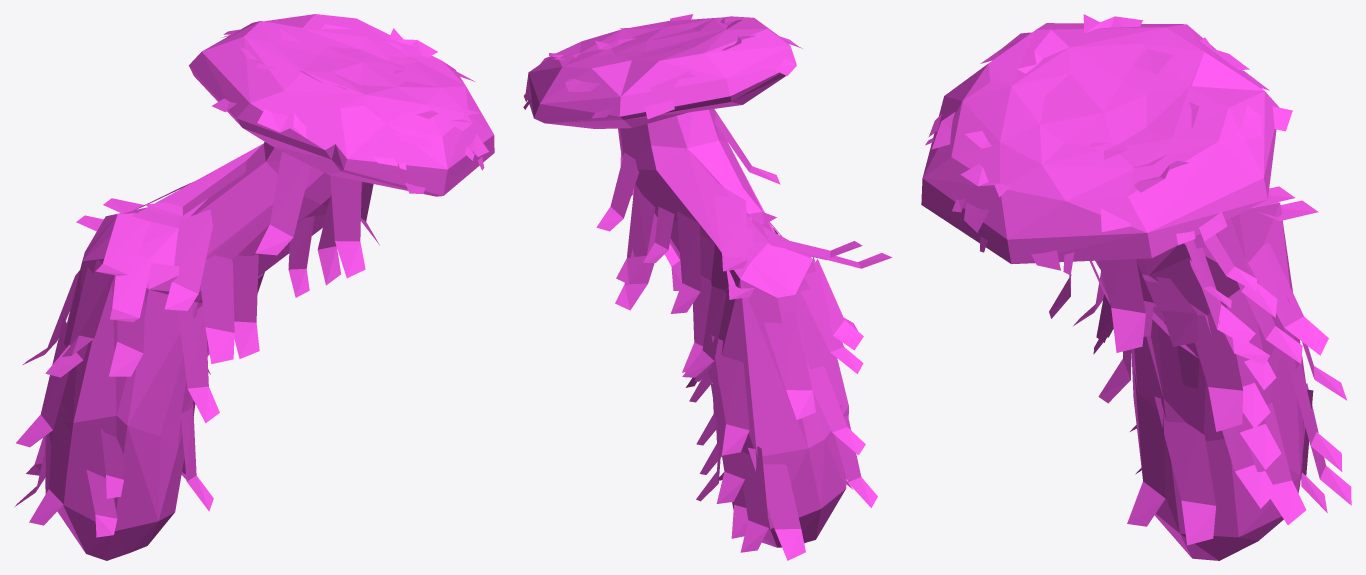
File: SM_Mushroom_Fluffy_Giant_D_Fantasy.fbx
3 renders of one model, left to right at view 1: azimuth 30°, elevation 25°; view 2: azimuth 150°, elevation 25°; view 3: azimuth 270°, elevation 25°, orthographic. The views are drawn at different scales.
Visible parts, largest first — view 1: SM_Mushroom_Fluffy_Giant_D_Fantasy; view 2: SM_Mushroom_Fluffy_Giant_D_Fantasy; view 3: SM_Mushroom_Fluffy_Giant_D_Fantasy.
Part boxes in pixels (x1=…): SM_Mushroom_Fluffy_Giant_D_Fantasy: x1=15, y1=14, x2=494, y2=560; SM_Mushroom_Fluffy_Giant_D_Fantasy: x1=523, y1=14, x2=892, y2=560; SM_Mushroom_Fluffy_Giant_D_Fantasy: x1=921, y1=14, x2=1351, y2=560.
Size of the model in its own units: 5.1 by 6.09 by 4.02.
